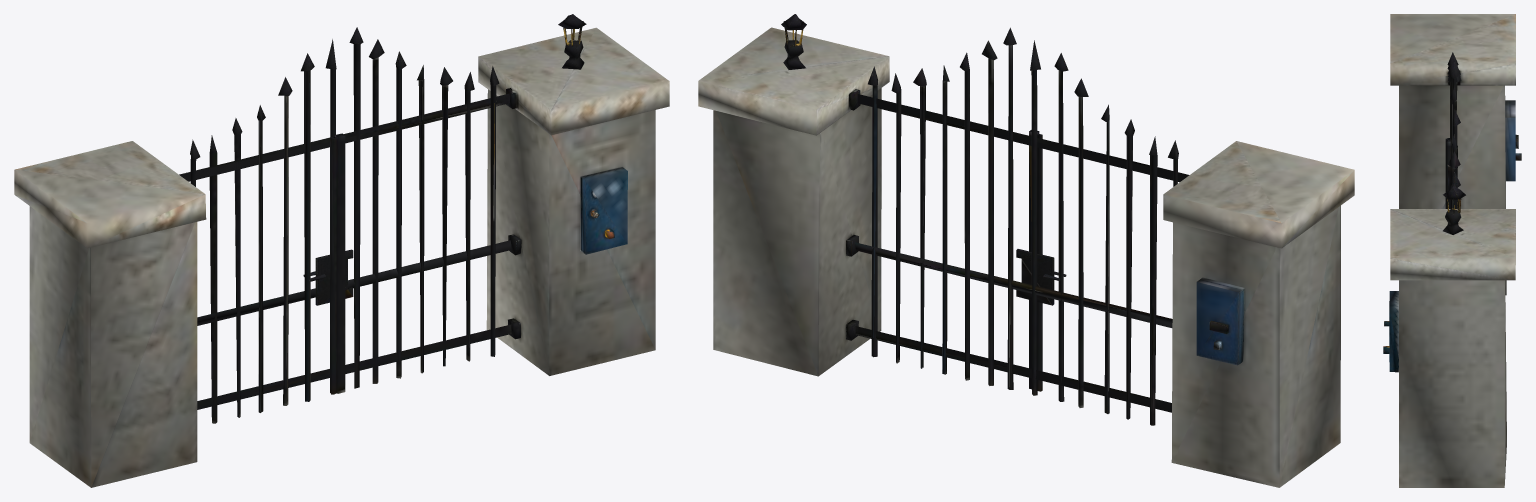
Rendered from security_gate.glb.
3 views of the same model, side by side, from view 1: azimuth 30°, elevation 25°; view 2: azimuth 150°, elevation 25°; view 3: azimuth 270°, elevation 25° (orthographic). The views are drawn at different scales.
Size of the model in its own units: 4 by 2.4 by 0.9546.
Materials: 1 (1 with a texture image).
